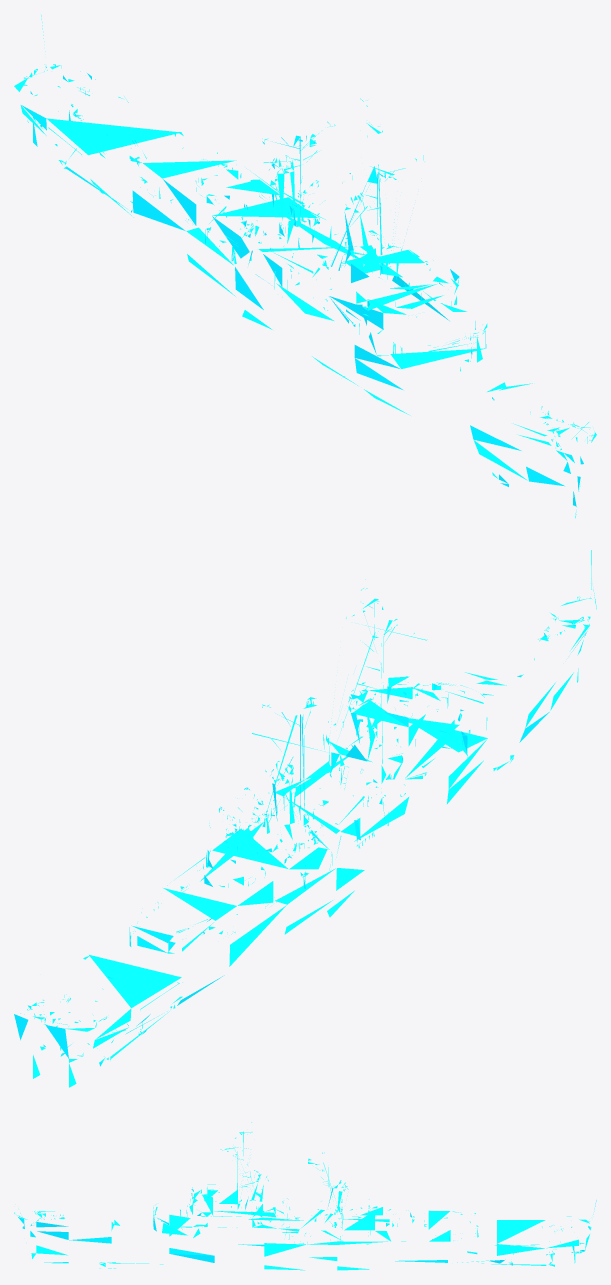
The model's file is Forrest_Sherman.glb.
The picture shows the model from 3 angles, top to bottom: view 1: azimuth 30°, elevation 25°; view 2: azimuth 150°, elevation 25°; view 3: azimuth 270°, elevation 25°; orthographic projection. The views are drawn at different scales.
Bounding box in the file's own units: 0.9112 × 2.47 × 8.57.
